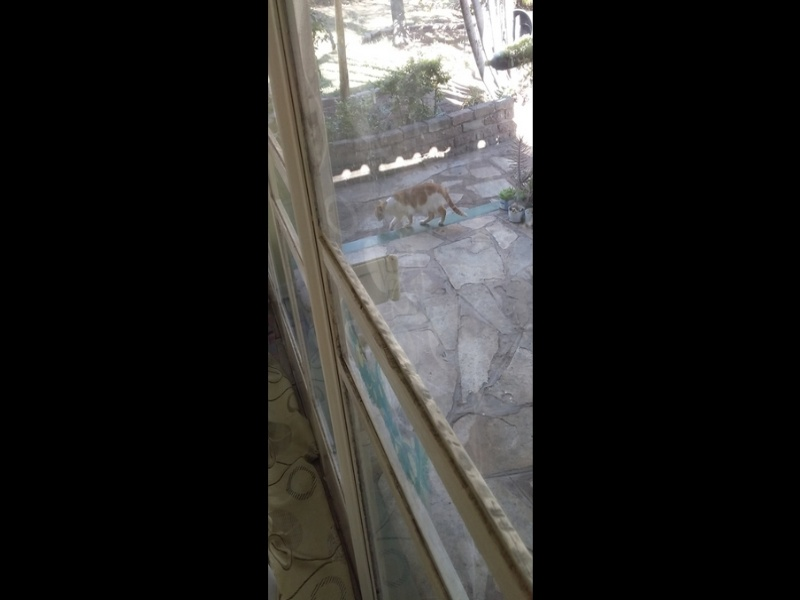cat: (371, 183, 469, 230)
